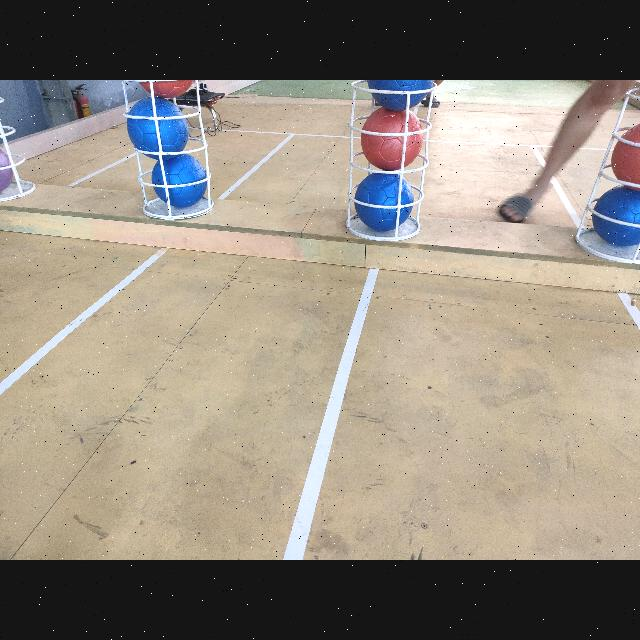B: (126, 99, 188, 159), (354, 173, 414, 231), (150, 152, 208, 208), (592, 188, 640, 246), (366, 80, 434, 110)
R: (360, 109, 422, 171), (610, 120, 640, 192), (133, 80, 195, 98)
